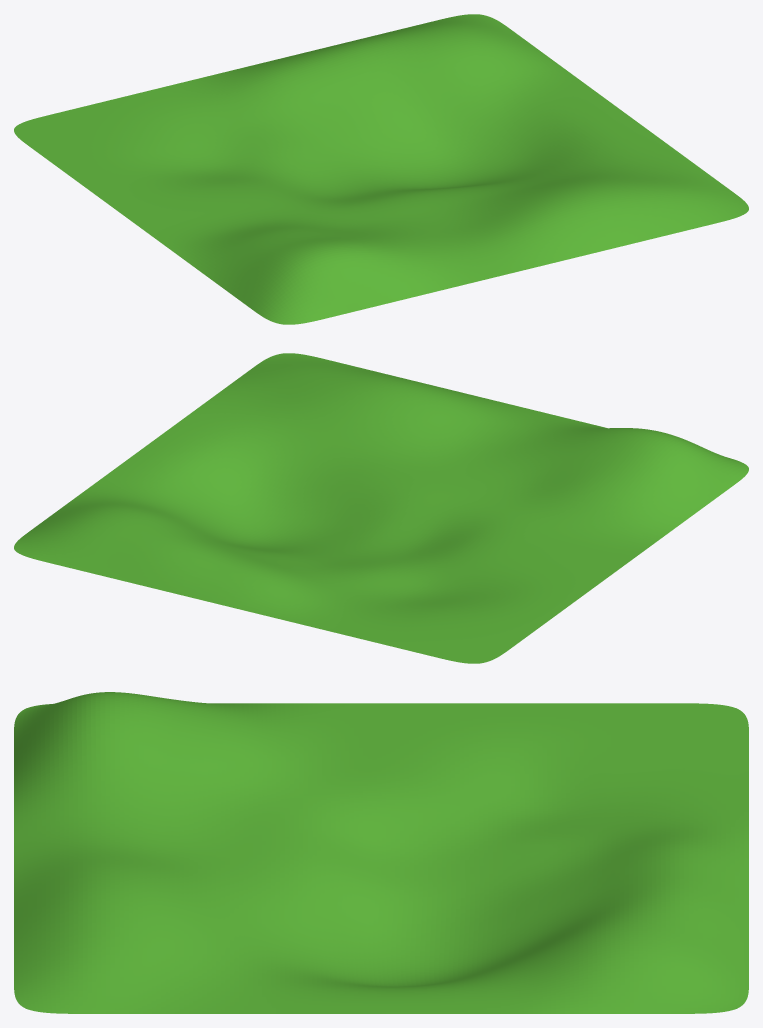
The model's file is kusa.glb.
3 views of the same model, one above another, from view 1: azimuth 30°, elevation 25°; view 2: azimuth 150°, elevation 25°; view 3: azimuth 270°, elevation 25° (orthographic). The views are drawn at different scales.
Parts seen in each view (by area): view 1: Plane; view 2: Plane; view 3: Plane.
Part boxes in pixels (x1=…): Plane: x1=14, y1=14, x2=748, y2=324; Plane: x1=14, y1=353, x2=748, y2=663; Plane: x1=14, y1=692, x2=748, y2=1013.
Bounding box in the file's own units: 80 × 11.64 × 80.
